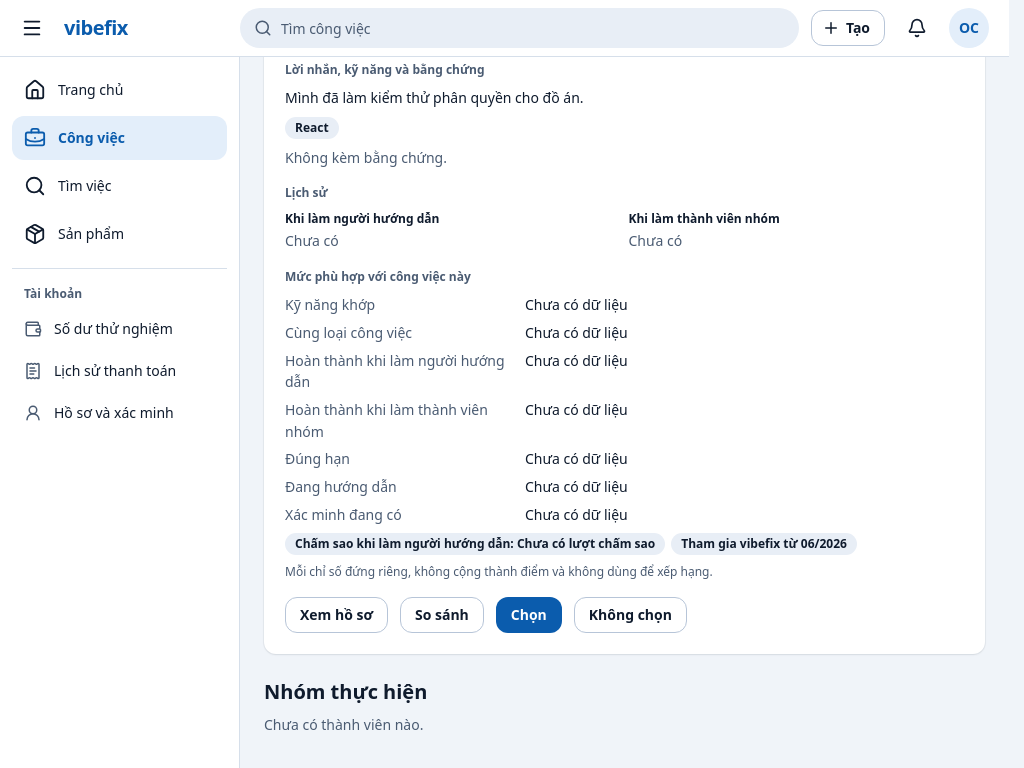
Scenario: JOB-9 says why a pick was refused, and writes nothing (FR-81, AD-23, Story 21.5) › says an application that stopped waiting is no longer pickable
(page scrolled)
Click the button "Chọn".
click(529, 615)  # box [496,597,562,633]
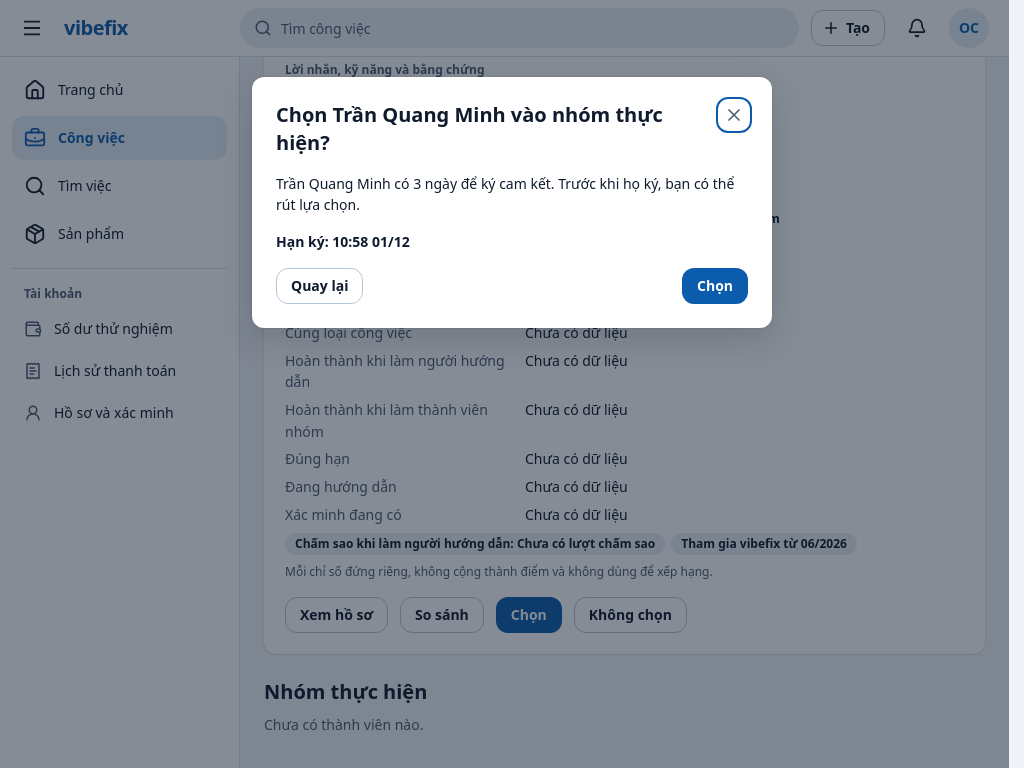
Click the button "Chọn".
click(715, 286)  # box [682,268,748,304]
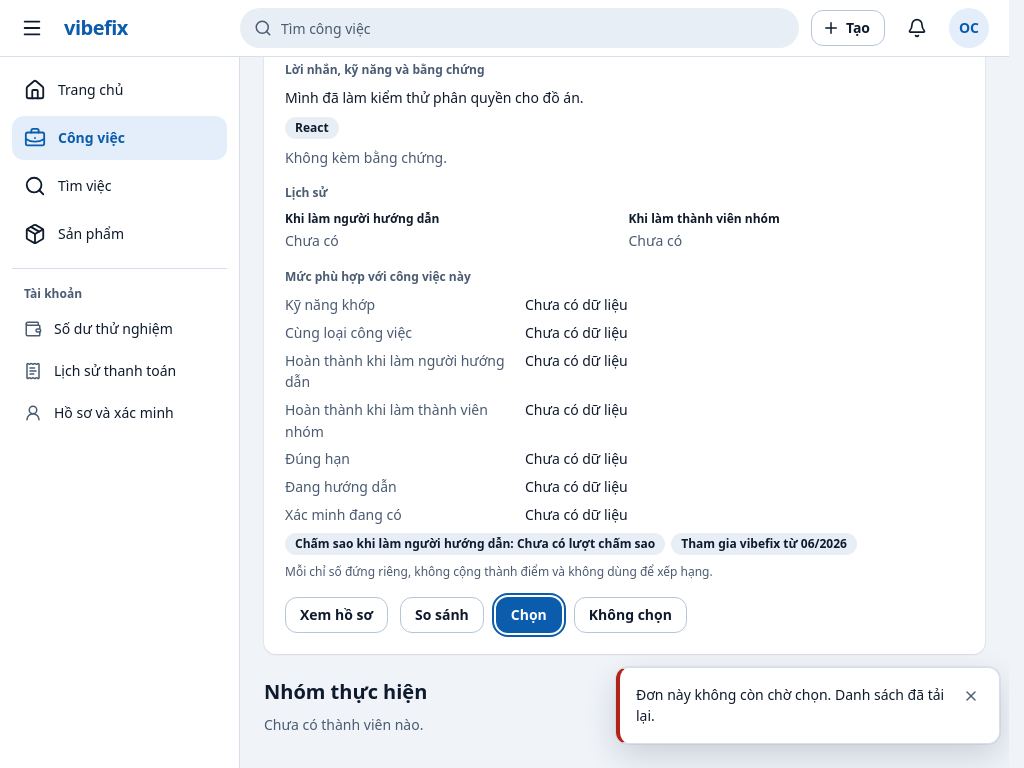
Expected: the heading "Đơn này không còn chờ chọn. Danh sách đã tải lại." is shown, [636,684,947,727]
